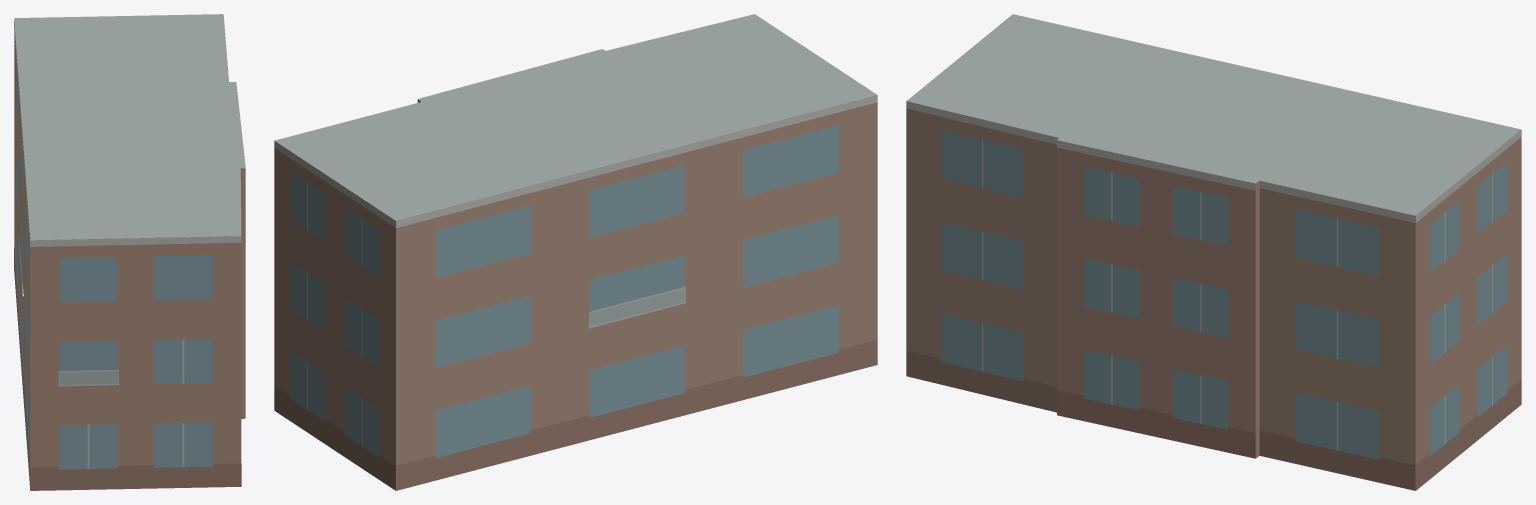
Rendered from survey-upis-32509625.glb.
3 views of the same model, side by side, from view 1: azimuth 30°, elevation 25°; view 2: azimuth 150°, elevation 25°; view 3: azimuth 270°, elevation 25° (orthographic). The views are drawn at different scales.
Parts seen in each view (by area): view 1: survey-upis-32509625.tmp; view 2: survey-upis-32509625.tmp; view 3: survey-upis-32509625.tmp.
Part boxes in pixels (bbox=[...]): survey-upis-32509625.tmp: bbox=[14, 14, 245, 490]; survey-upis-32509625.tmp: bbox=[274, 14, 877, 490]; survey-upis-32509625.tmp: bbox=[906, 14, 1521, 490].
Bounding box in the file's own units: 14.41 × 9.15 × 18.56.
